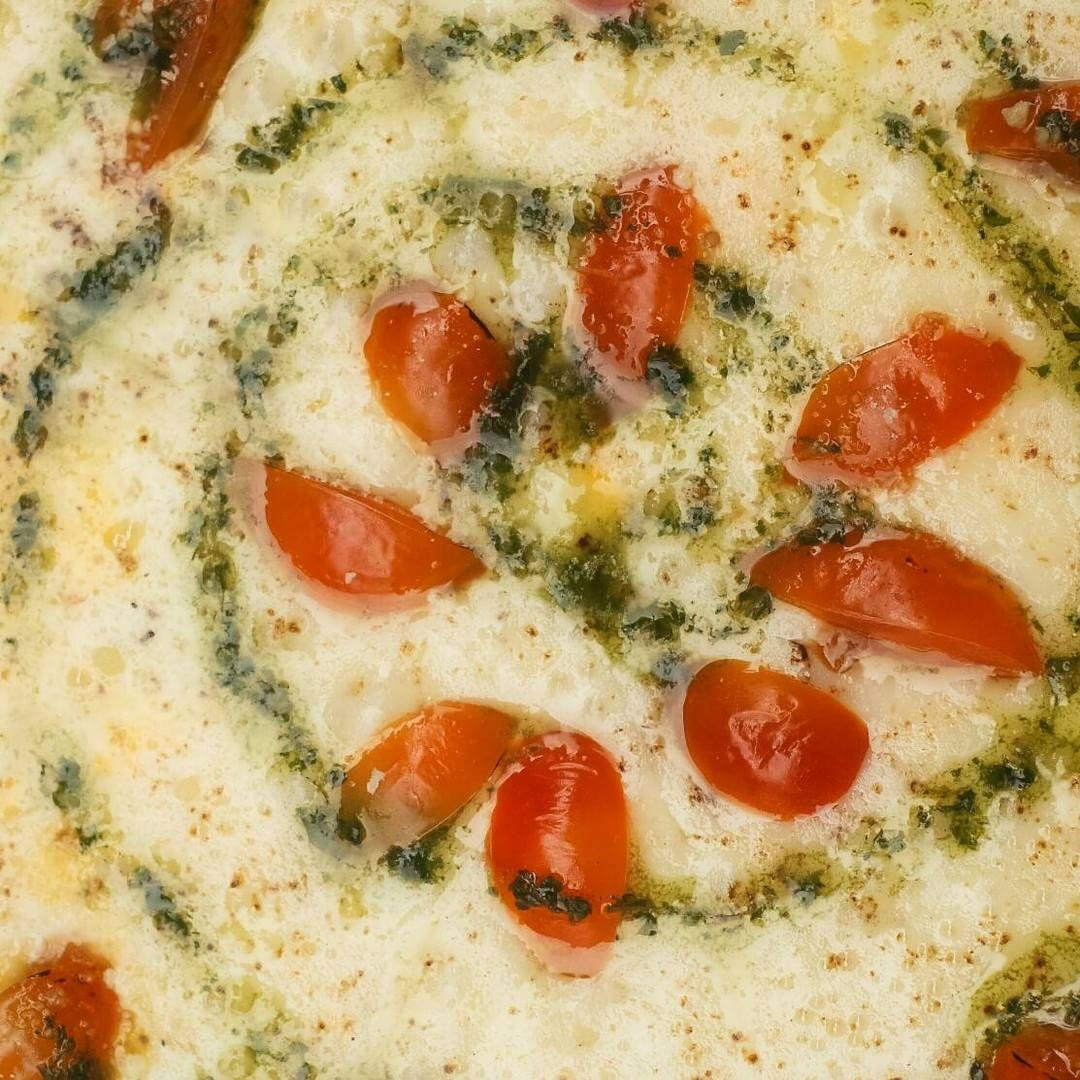Pizza: (1, 1, 1080, 1080)
Tomatoes: (761, 531, 1046, 675), (794, 318, 1008, 484), (244, 464, 488, 599), (498, 734, 633, 946), (691, 651, 862, 815), (88, 0, 260, 151), (370, 280, 509, 448), (584, 181, 704, 373), (338, 711, 520, 835), (0, 944, 124, 1073), (964, 81, 1080, 171), (978, 1031, 1080, 1080)
